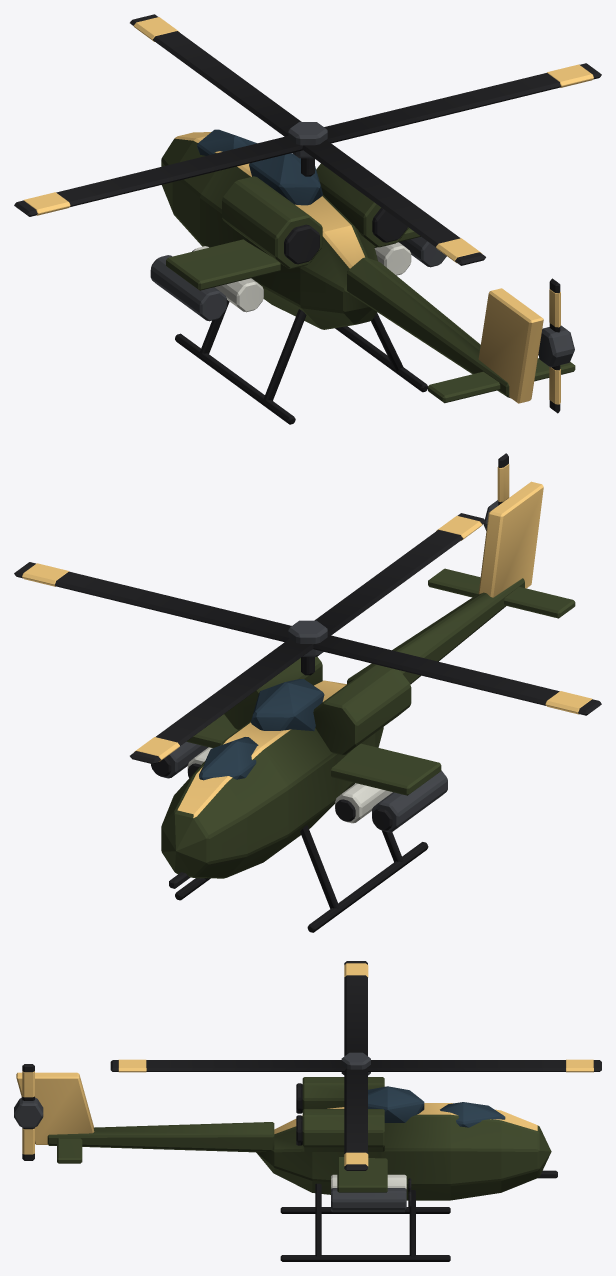
Rendered from helicopter_attack.glb.
The picture shows the model from 3 angles, top to bottom: view 1: azimuth 30°, elevation 25°; view 2: azimuth 150°, elevation 25°; view 3: azimuth 270°, elevation 25°; orthographic projection. The views are drawn at different scales.
Visible parts, largest first — view 1: helicopter_attack, Rotor, RotorTail; view 2: helicopter_attack, Rotor, RotorTail; view 3: helicopter_attack, Rotor, RotorTail.
Boxes of the visible parts, x1,y1,x2,y2 form: helicopter_attack: [150, 129, 575, 424]; Rotor: [14, 14, 601, 265]; RotorTail: [538, 278, 574, 413]; helicopter_attack: [151, 481, 575, 932]; Rotor: [14, 513, 601, 764]; RotorTail: [483, 453, 509, 530]; helicopter_attack: [16, 1072, 557, 1261]; Rotor: [110, 961, 601, 1170]; RotorTail: [14, 1064, 43, 1160].
Bounding box in the file's own units: 1.56 × 0.64 × 1.87.
